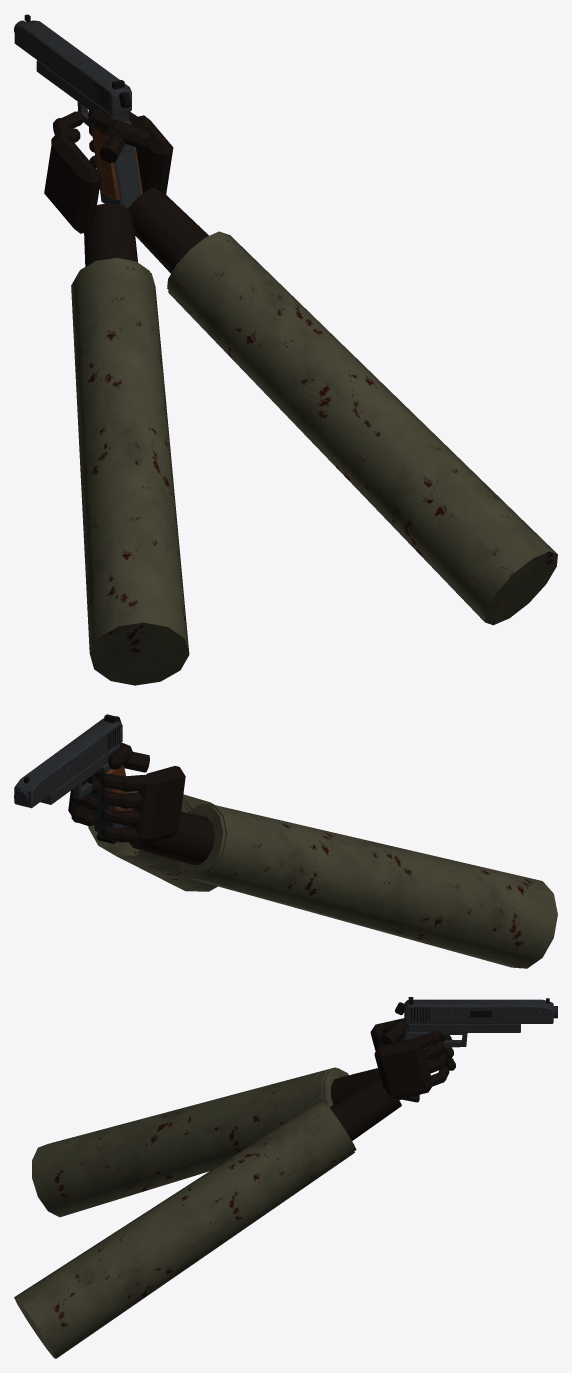
The picture shows the model from 3 angles, top to bottom: view 1: azimuth 30°, elevation 25°; view 2: azimuth 150°, elevation 25°; view 3: azimuth 270°, elevation 25°; orthographic projection. The views are drawn at different scales.
Parts seen in each view (by area): view 1: Body, ArmL, Slide; view 2: ArmL, Body, Slide; view 3: Body, ArmL, Slide.
Part boxes in pixels (<box>): Body: <box>14,20,557,625</box>; ArmL: <box>44,111,189,685</box>; Slide: <box>14,14,131,115</box>; ArmL: <box>101,751,557,968</box>; Body: <box>14,716,217,891</box>; Slide: <box>14,714,122,808</box>; Body: <box>14,1002,557,1358</box>; ArmL: <box>32,1018,455,1217</box>; Slide: <box>404,997,553,1023</box>.
Bounding box in the file's own units: 0.539 × 0.4584 × 0.7476.
Materials: 6 (6 with a texture image).
